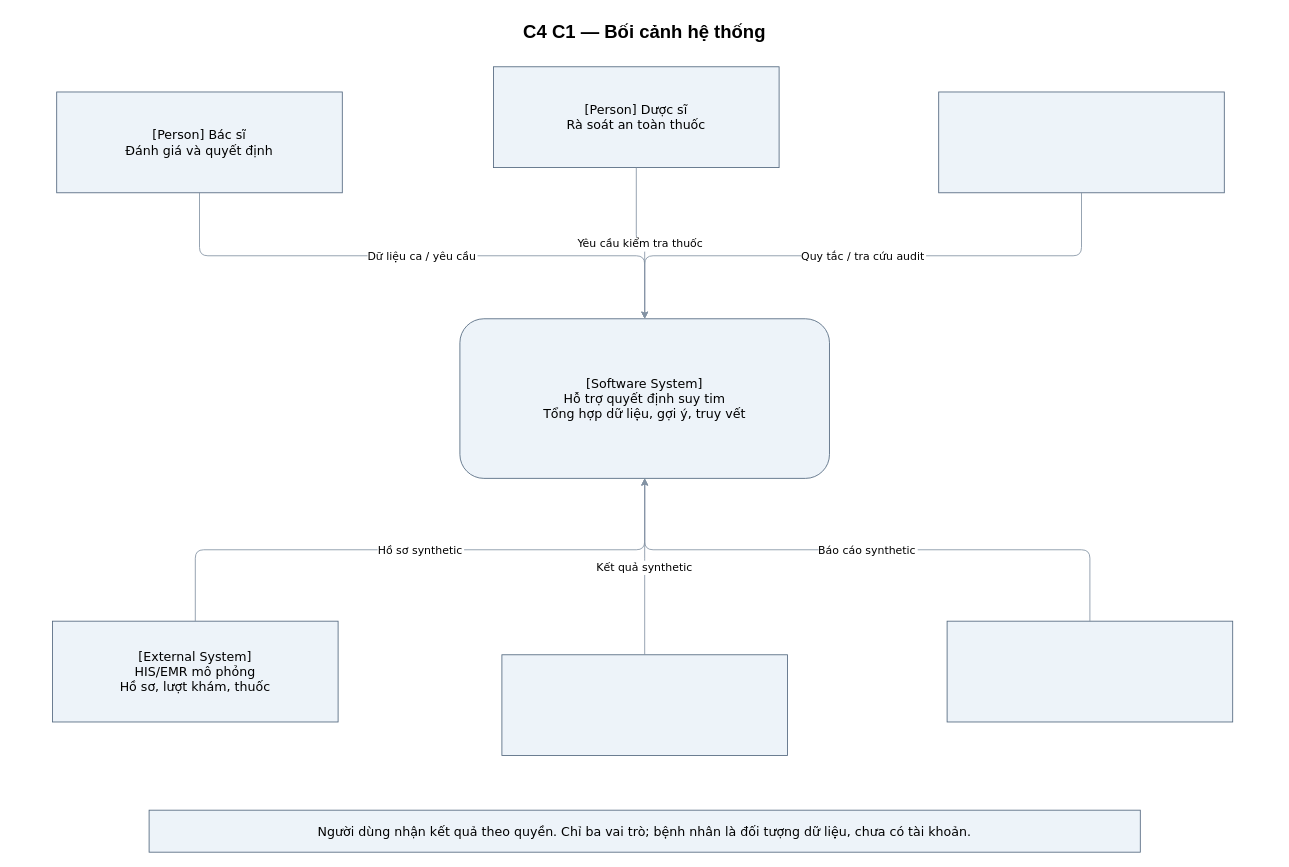
This 1289x867 diagram has some shape labels left out. The shapes that lost their labels are listed below. From the top down, each one's centre as x and y in pixels, then its label:
the point at 1081,142: [Person] Quản trị viên Quyền, quy tắc, audit
the point at 1089,671: [External System] PACS/RIS mô phỏng Báo cáo hình ảnh / EF
the point at 644,705: [External System] LIS mô phỏng Kết quả xét nghiệm
